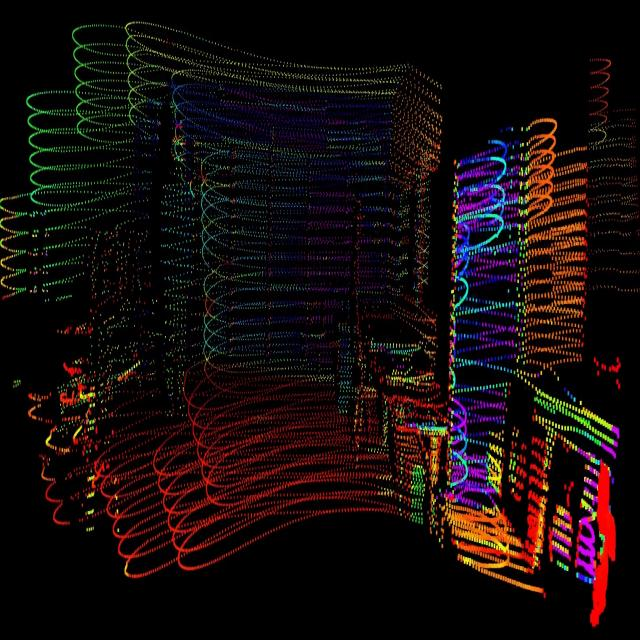human: (148, 100, 210, 418)
